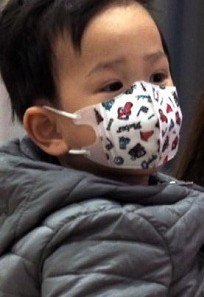with_mask: (6, 2, 194, 175)
